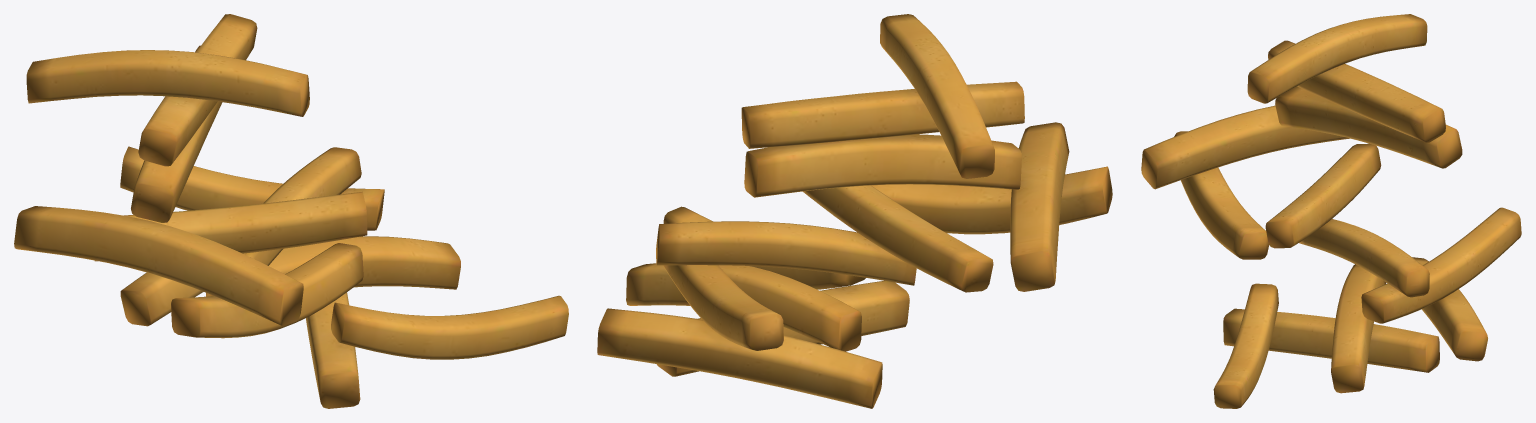
File: papas-cajun.glb
3 views of the same model, side by side, from view 1: azimuth 30°, elevation 25°; view 2: azimuth 150°, elevation 25°; view 3: azimuth 270°, elevation 25° (orthographic). The views are drawn at different scales.
Visible parts, largest first — view 1: papas-cajun; view 2: papas-cajun; view 3: papas-cajun.
Part boxes in pixels (left/top/right/bottom): papas-cajun: left=14, top=14, right=568, bottom=408; papas-cajun: left=597, top=14, right=1112, bottom=408; papas-cajun: left=1141, top=14, right=1521, bottom=408.
Bounding box in the file's own units: 2.03 × 1.38 × 1.77.
1 material, 1 textured.
